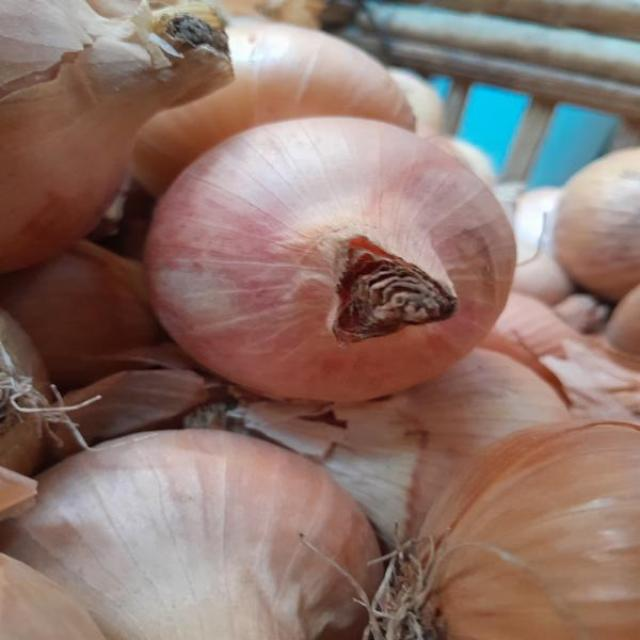Onion: (139, 113, 517, 415), (0, 429, 414, 640), (0, 0, 234, 276), (358, 414, 640, 640), (548, 147, 640, 351)
